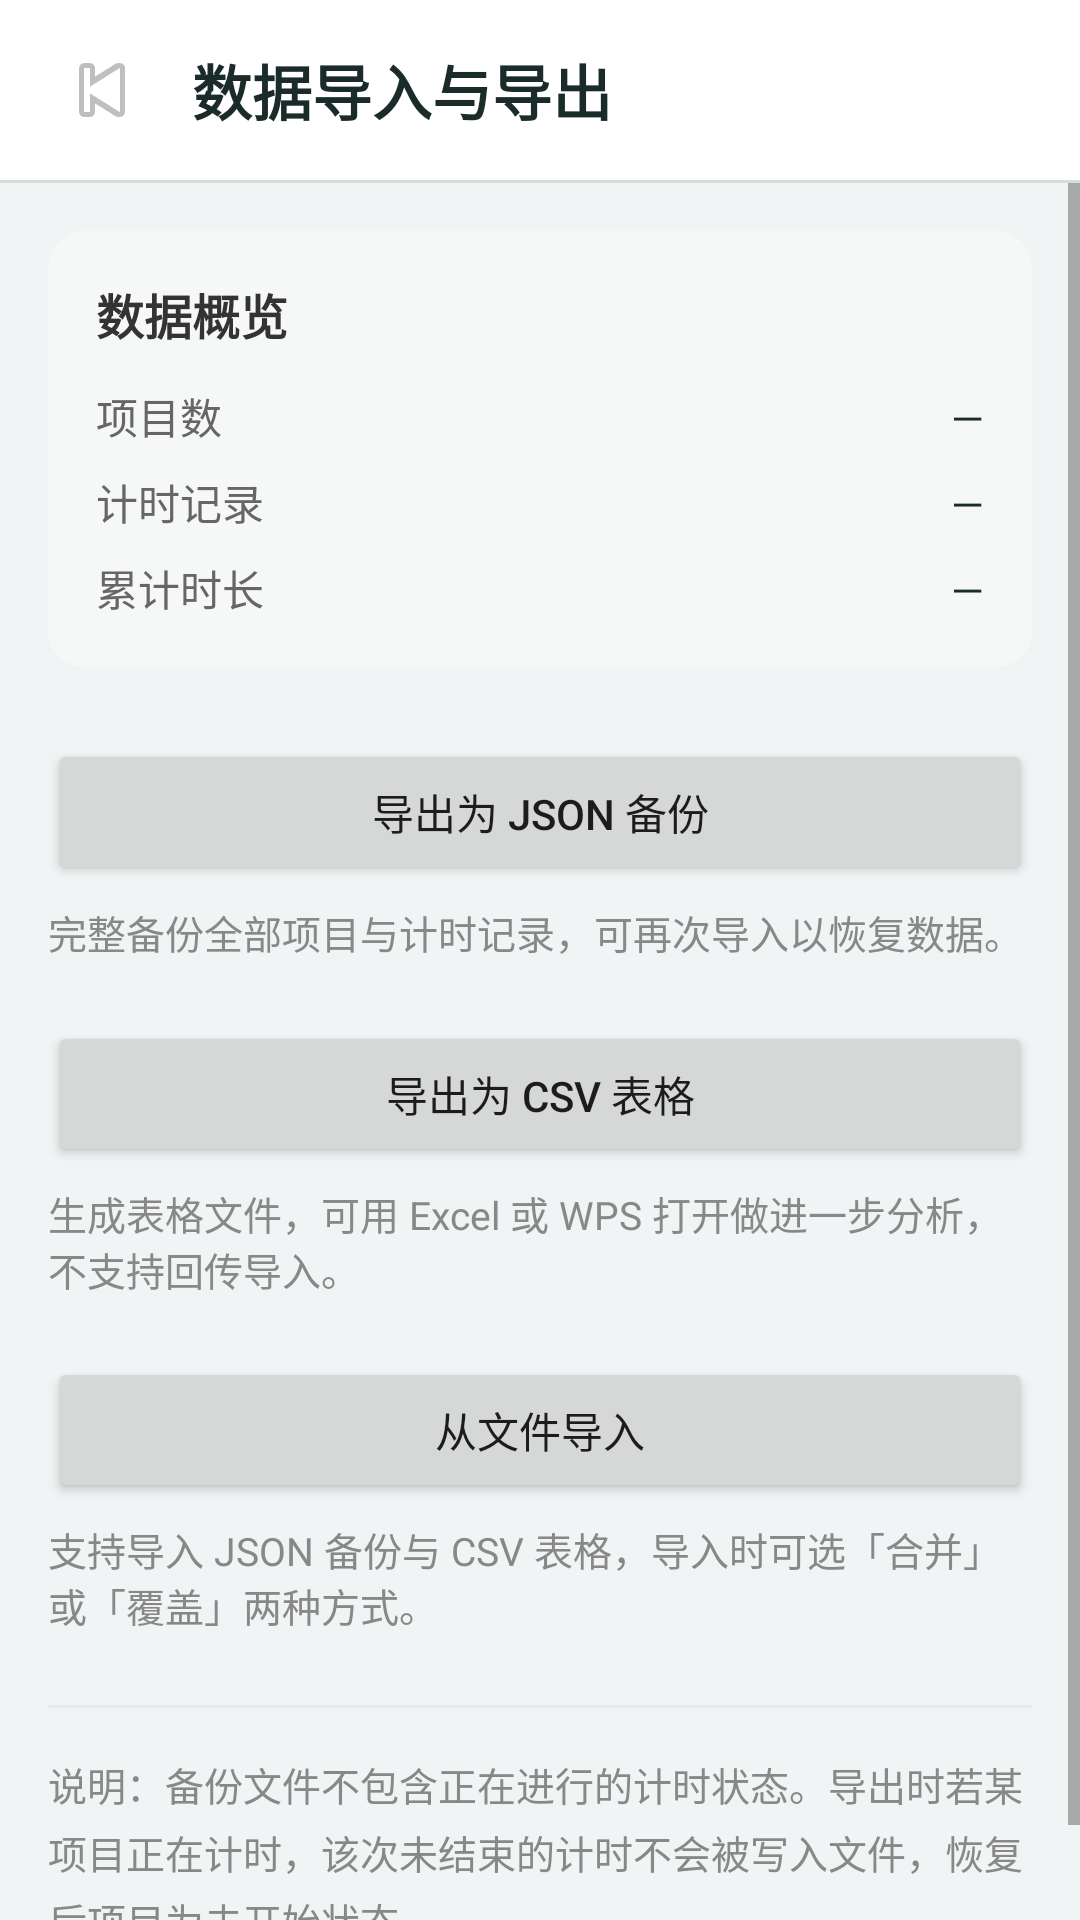

Icon click points for this 1080w x 1920h phone screenshot, format (x,y):
返回: (102,90)
